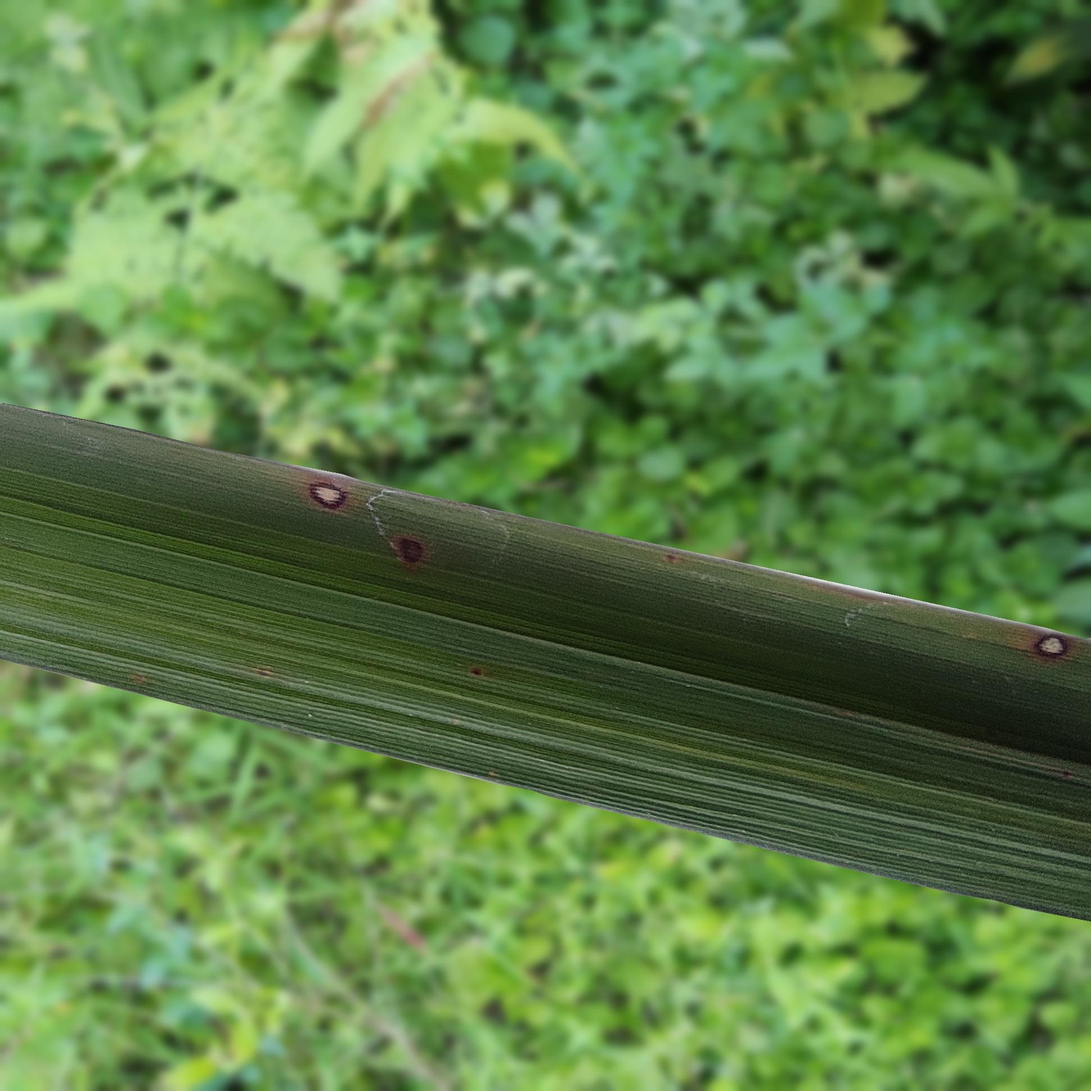LEAF BLAST: (308, 480, 346, 510), (392, 535, 425, 566), (1034, 634, 1069, 658)
